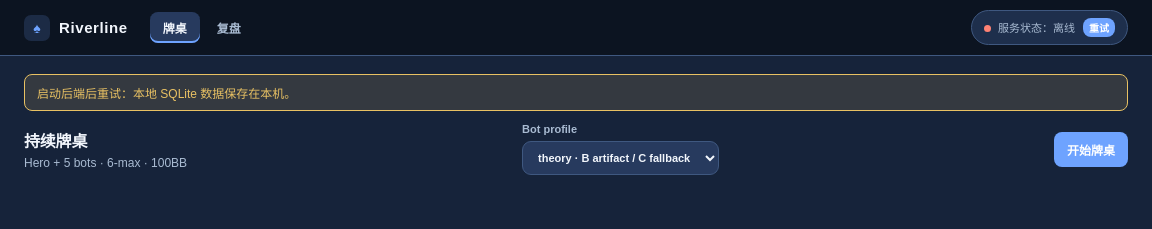
Test: MVP frontend shell › opens the table by default, keeps only table/reviews navigation, and gives an honest offline status
expect the element with test id "continuous-table-page" is shown: met, box [24,123,1128,187]
expect the text "服务状态：离线" is shown: met, box [998,22,1075,34]
Click the button "复盘" at (229, 28), box [204,12,254,43]
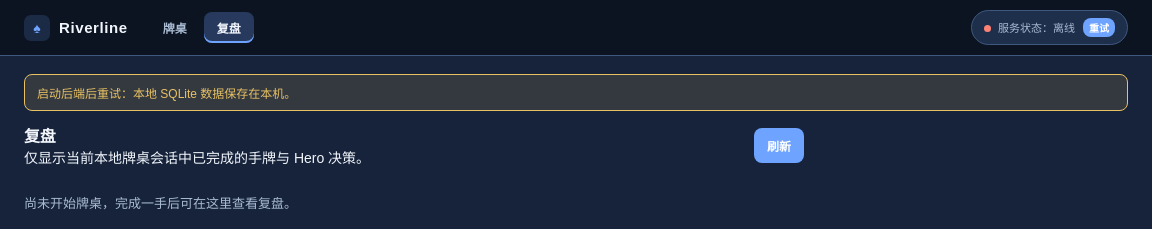
expect the element with test id "table-reviews-panel" is shown: met, box [24,123,804,212]
